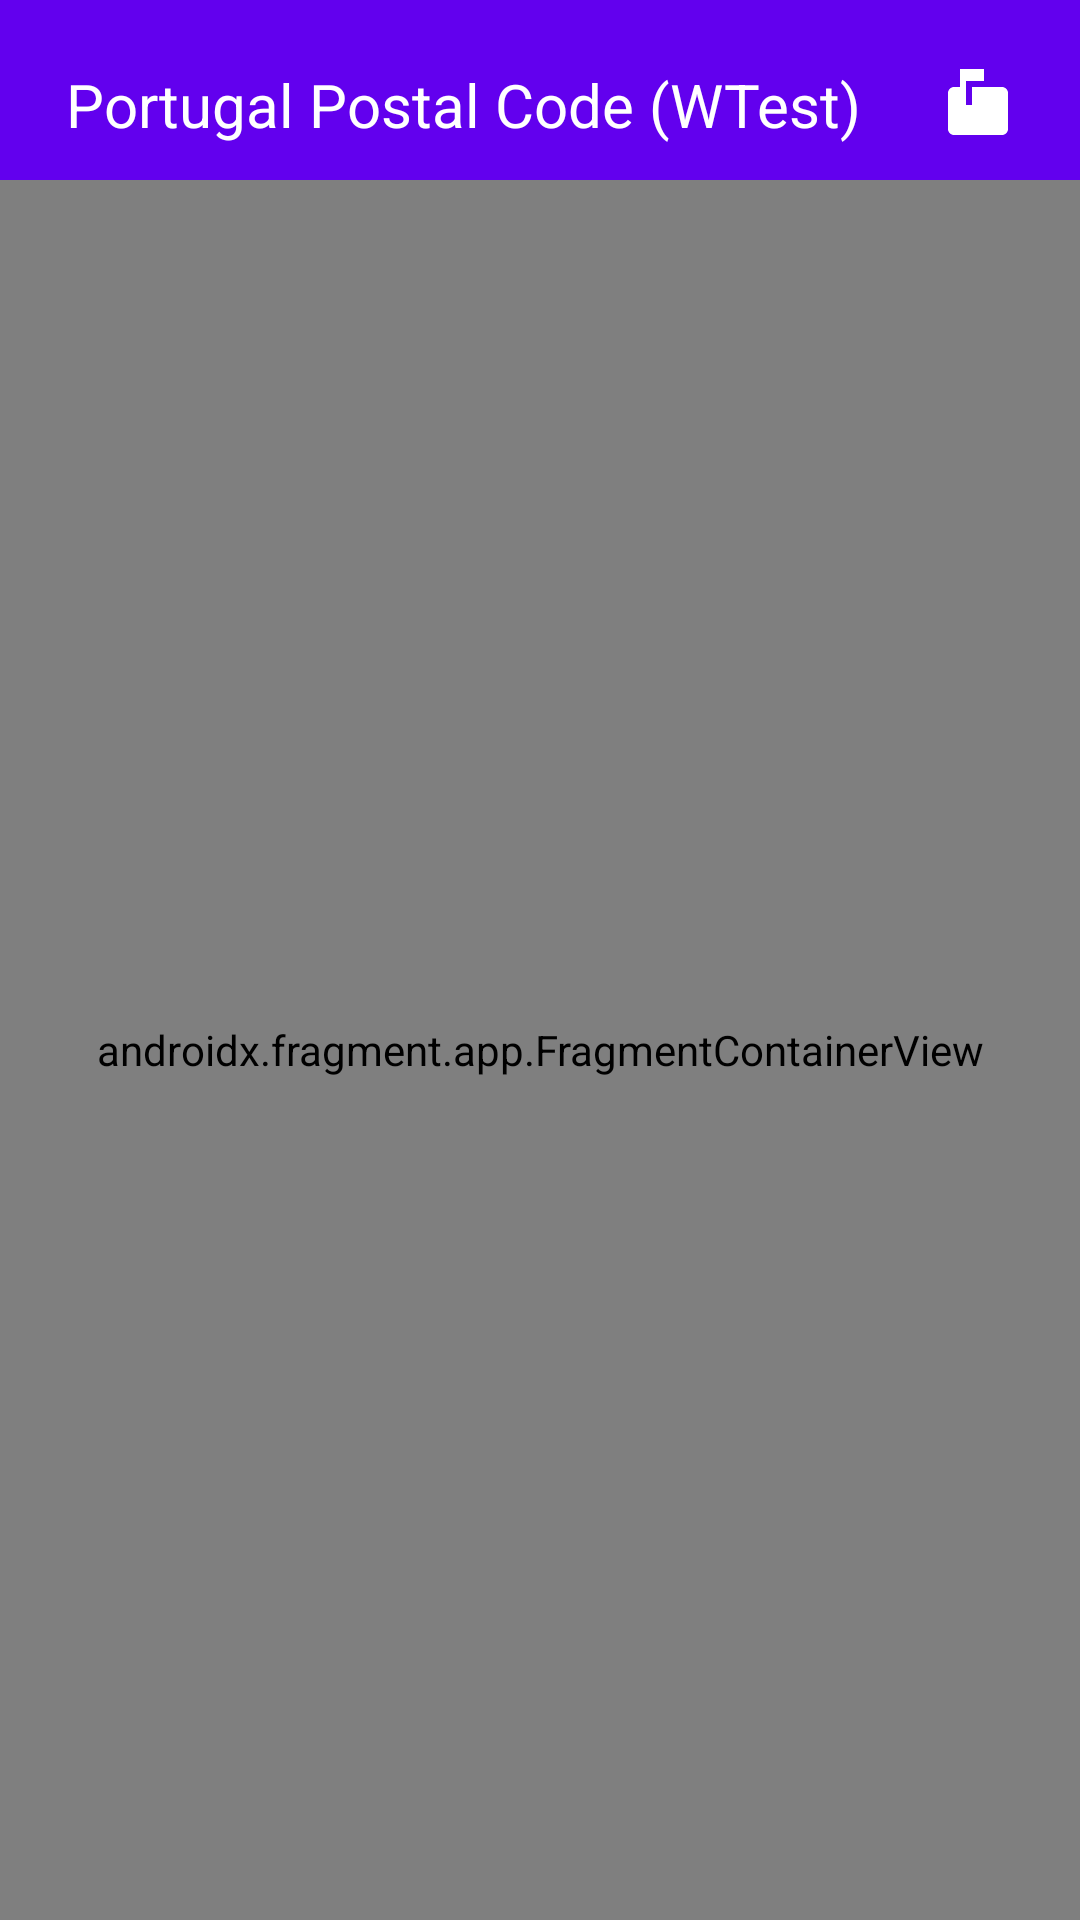

Icon click points for this 1080 x 1920 phone screenshot, format point (x, y):
mailbox: point (978, 102)
